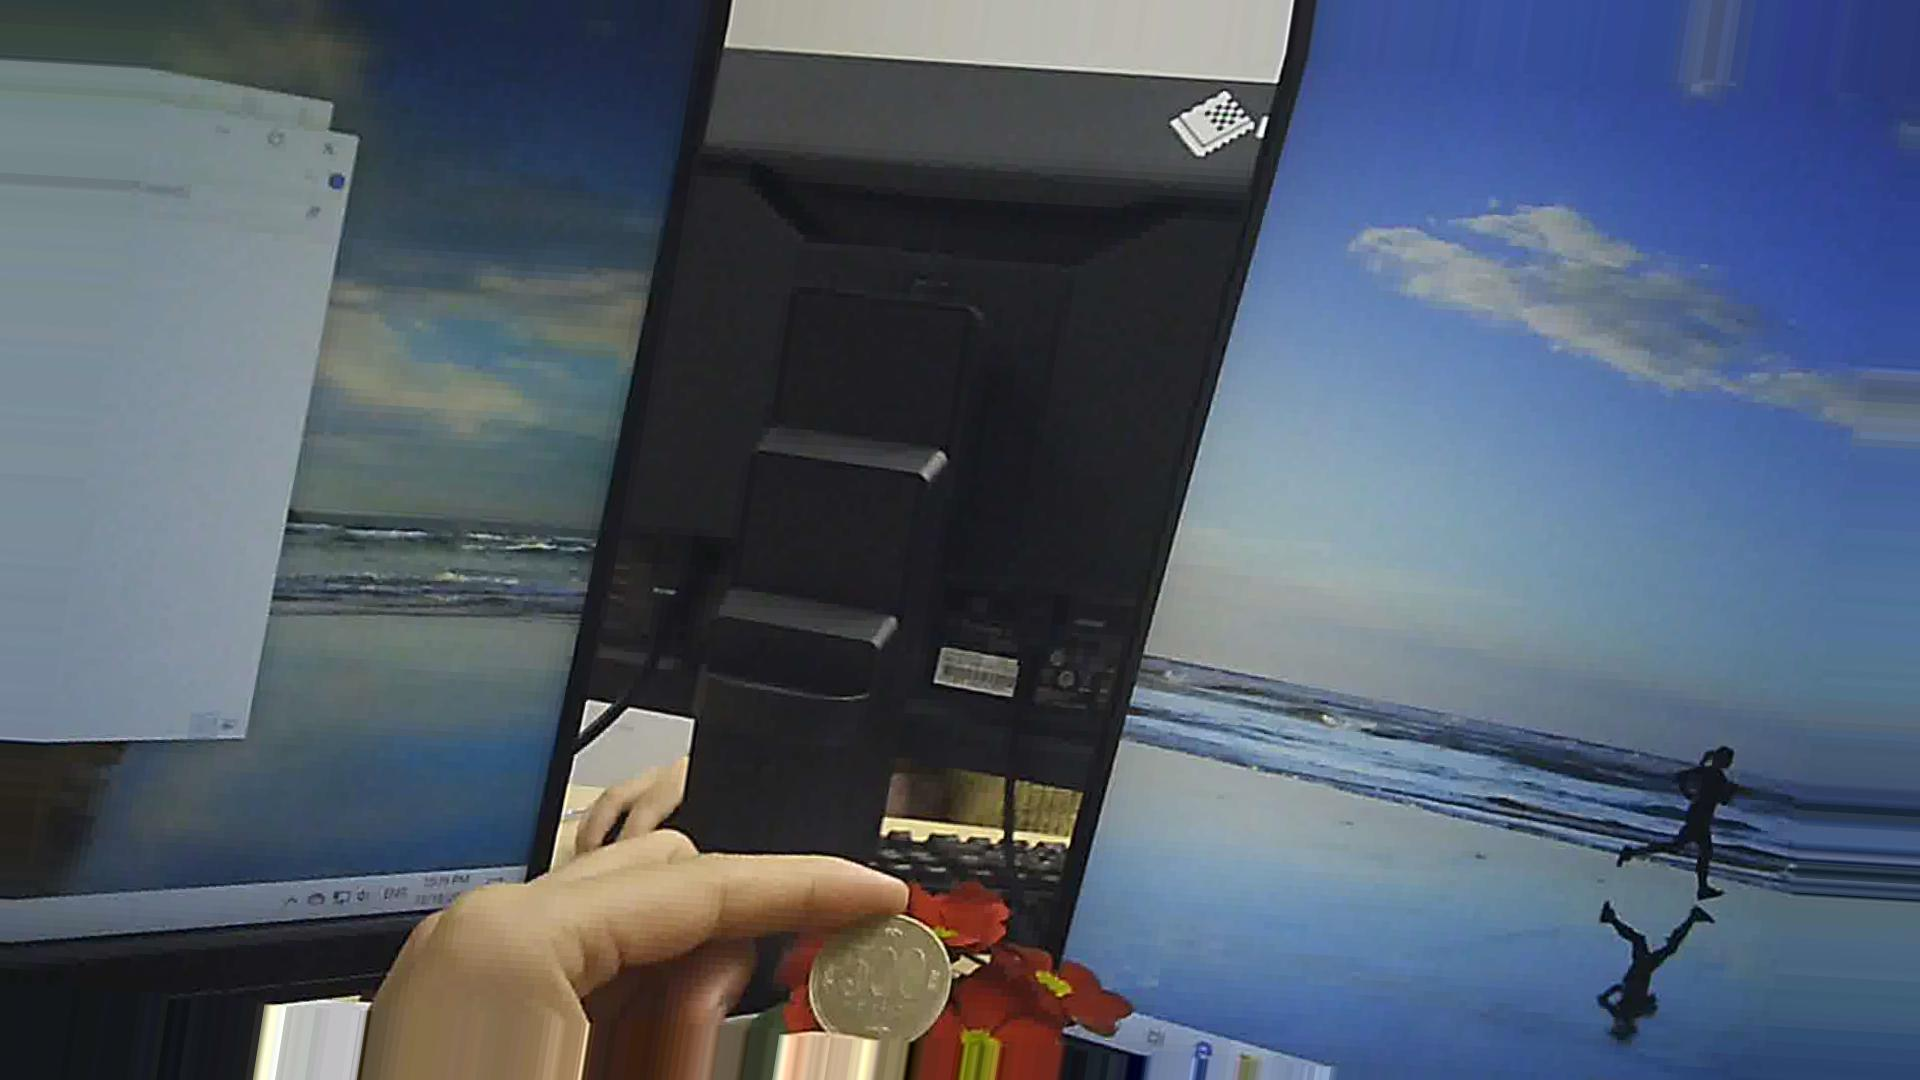500 Yen: (804, 899, 956, 1051)
